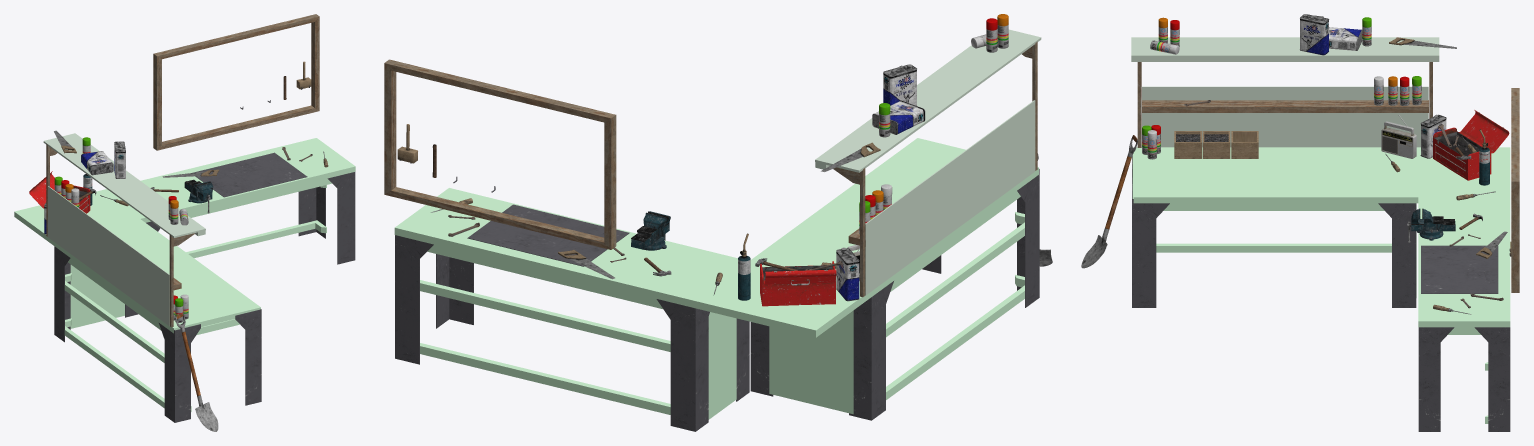
The model's file is meme_desk.gltf.
3 views of the same model, side by side, from view 1: azimuth 30°, elevation 25°; view 2: azimuth 150°, elevation 25°; view 3: azimuth 270°, elevation 25° (orthographic). The views are drawn at different scales.
Visible parts, largest first — view 1: DeskTop_10, DeskTopShelf1Supp_12, DeskF1_7, Object_42, Object_32, DeskF2_8, Cube_0, DeskBarr_6, DeskShelf1Supp2.002_24, DeskShelf1Supp2_9, DeskShelf1Supp2.001_23, Desk2Supp_5 (+7 smaller); view 2: DeskTop_10, DeskTopShelf1Supp_12, DeskF2_8, Object_42, DeskF1_7, DeskBarr_6, Object_32, Cube_0, DeskShelf1Supp2.002_24, DeskShelf1Supp2.003_25, ToolBox_115, DeskBarr.001_26 (+10 smaller); view 3: DeskTop_10, DeskTopShelf1Supp_12, DeskF1_7, DeskF2_8, Object_32, Cube_0, DeskTopShelf1_11, ToolBox_115, DeskShelf1Supp2_9, Object_42, Desk1Supp_4, DeskTopShelf2Supp_14 (+11 smaller).
Part boxes in pixels (left/top/right/bottom): DeskTop_10: left=14, top=138, right=355, bottom=333; DeskTopShelf1Supp_12: left=48, top=186, right=169, bottom=325; DeskF1_7: left=54, top=246, right=261, bottom=422; Object_42: left=153, top=14, right=319, bottom=150; Object_32: left=43, top=133, right=205, bottom=237; DeskF2_8: left=146, top=172, right=355, bottom=264; Cube_0: left=192, top=152, right=307, bottom=197; DeskBarr_6: left=70, top=265, right=124, bottom=328; DeskShelf1Supp2.002_24: left=186, top=220, right=326, bottom=258; DeskShelf1Supp2_9: left=64, top=318, right=191, bottom=411; DeskShelf1Supp2.001_23: left=64, top=273, right=164, bottom=362; Desk2Supp_5: left=187, top=178, right=331, bottom=217; DeskTop_10: left=394, top=138, right=1038, bottom=337; DeskTopShelf1Supp_12: left=865, top=100, right=1035, bottom=295; DeskF2_8: left=395, top=235, right=749, bottom=431; Object_42: left=384, top=59, right=616, bottom=249; DeskF1_7: left=750, top=169, right=1039, bottom=420; DeskBarr_6: left=769, top=310, right=853, bottom=414; Object_32: left=815, top=29, right=1041, bottom=172; Cube_0: left=467, top=204, right=629, bottom=266; DeskShelf1Supp2.002_24: left=420, top=343, right=670, bottom=414; DeskShelf1Supp2.003_25: left=420, top=280, right=670, bottom=351; ToolBox_115: left=760, top=261, right=836, bottom=306; DeskBarr.001_26: left=708, top=312, right=736, bottom=419; DeskTop_10: left=1133, top=147, right=1510, bottom=327; DeskTopShelf1Supp_12: left=1142, top=86, right=1428, bottom=147; DeskF1_7: left=1132, top=153, right=1416, bottom=307; DeskF2_8: left=1418, top=327, right=1510, bottom=431; Object_32: left=1131, top=37, right=1439, bottom=57; Cube_0: left=1421, top=245, right=1498, bottom=293; DeskTopShelf1_11: left=1142, top=100, right=1428, bottom=112; ToolBox_115: left=1433, top=110, right=1509, bottom=180; DeskShelf1Supp2_9: left=1156, top=243, right=1391, bottom=252; Object_42: left=1511, top=88, right=1519, bottom=292; Desk1Supp_4: left=1132, top=153, right=1384, bottom=210; DeskTopShelf2Supp_14: left=1131, top=57, right=1439, bottom=61.
Bounding box in the file's own units: 2.23 × 1.5 × 2.34.
Materials: 35 (33 with a texture image).
